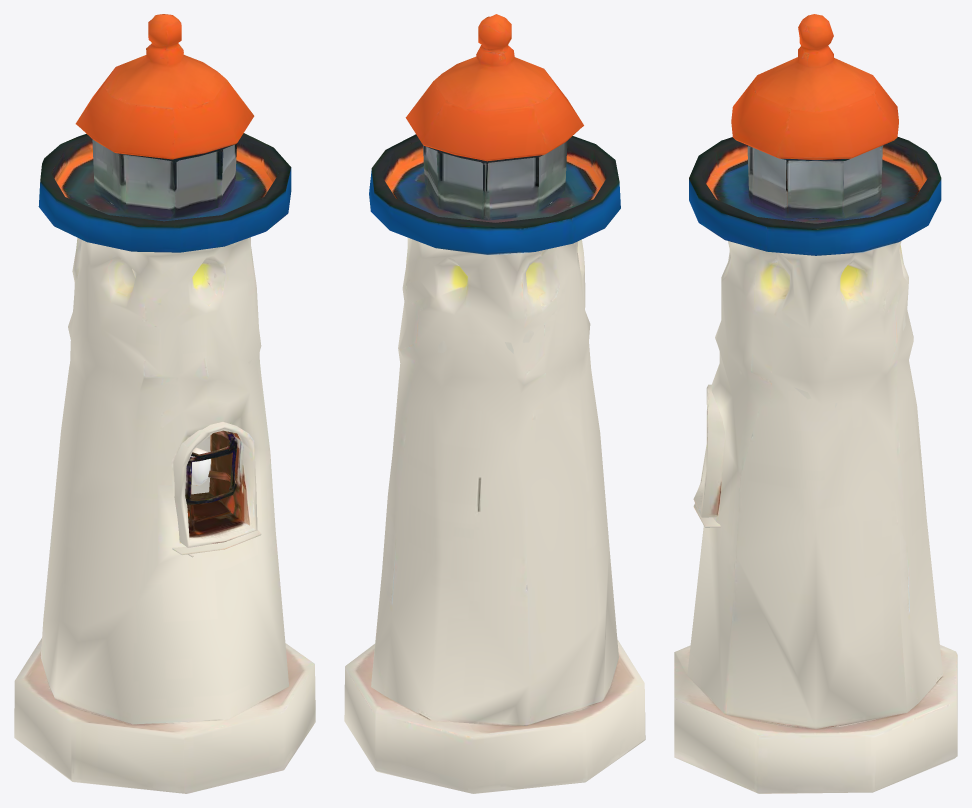
File: lighthouse.glb
3 renders of one model, left to right at view 1: azimuth 30°, elevation 25°; view 2: azimuth 150°, elevation 25°; view 3: azimuth 270°, elevation 25°, orthographic.
Parts seen in each view (by area): view 1: 0; view 2: 0; view 3: 0.
Part boxes in pixels (x1=…): 0: x1=14, y1=14, x2=315, y2=793; 0: x1=344, y1=14, x2=645, y2=793; 0: x1=674, y1=14, x2=957, y2=793.
Size of the model in its own units: 0.6772 by 1.91 by 0.6811.
1 material, 1 textured.
